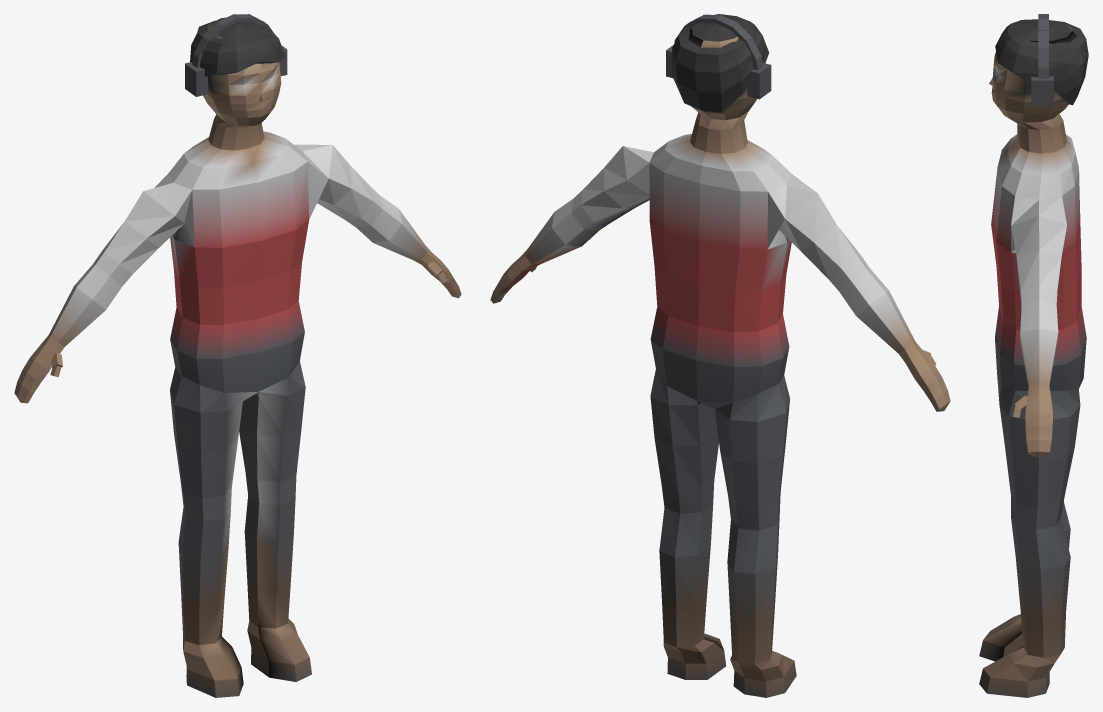
File: char__pessoa__multidao_18.glb
The picture shows the model from 3 angles, left to right: view 1: azimuth 30°, elevation 25°; view 2: azimuth 150°, elevation 25°; view 3: azimuth 270°, elevation 25°; orthographic projection. The views are drawn at different scales.
Visible parts, largest first — view 1: char__pessoa__multidao_18; view 2: char__pessoa__multidao_18; view 3: char__pessoa__multidao_18.
Part boxes in pixels (left/top/right/bottom): char__pessoa__multidao_18: left=14, top=14, right=461, bottom=697; char__pessoa__multidao_18: left=490, top=14, right=950, bottom=697; char__pessoa__multidao_18: left=979, top=14, right=1088, bottom=697.
Size of the model in its own units: 1.33 by 1.89 by 0.2864.
